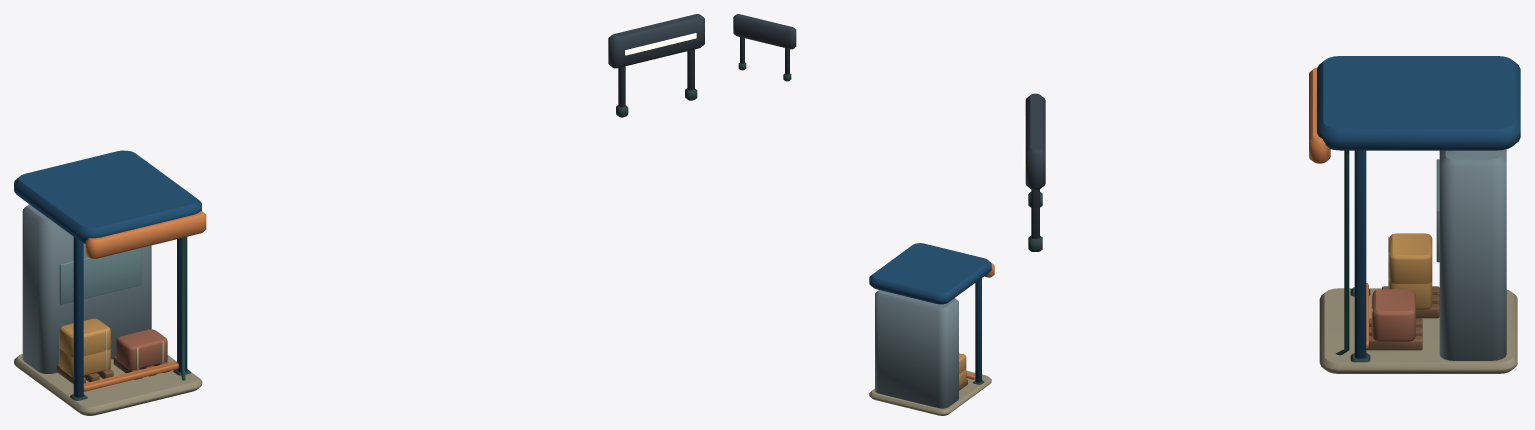
Rendered from metro_warehouse_4.glb.
3 renders of one model, left to right at view 1: azimuth 30°, elevation 25°; view 2: azimuth 150°, elevation 25°; view 3: azimuth 270°, elevation 25°, orthographic. The views are drawn at different scales.
Parts seen in each view (by area): view 1: Warehouse4; view 2: Warehouse4; view 3: Warehouse4.
Part boxes in pixels (x1,y1,x2,y2): Warehouse4: [14, 14, 704, 415]; Warehouse4: [733, 14, 994, 415]; Warehouse4: [1023, 56, 1520, 373].
Bounding box in the file's own units: 9.61 × 6.5 × 6.23.
